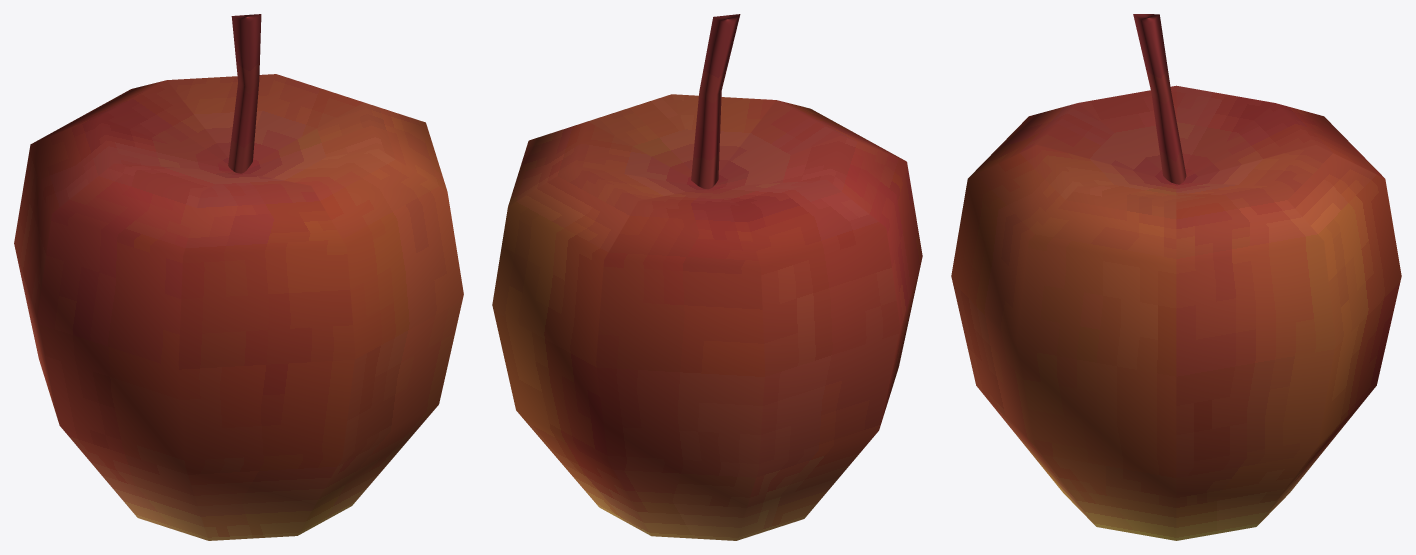
File: Obj_Fruit_Apple_A_01.glb
3 renders of one model, left to right at view 1: azimuth 30°, elevation 25°; view 2: azimuth 150°, elevation 25°; view 3: azimuth 270°, elevation 25°, orthographic. The views are drawn at different scales.
Visible parts, largest first — view 1: Obj_Fruit_Apple_A_01; view 2: Obj_Fruit_Apple_A_01; view 3: Obj_Fruit_Apple_A_01.
Boxes of the visible parts, box(x1,y1,x2,y2) form: Obj_Fruit_Apple_A_01: box(14, 14, 463, 540); Obj_Fruit_Apple_A_01: box(492, 14, 922, 540); Obj_Fruit_Apple_A_01: box(951, 14, 1401, 540).
Size of the model in its own units: 0.2653 by 0.3179 by 0.2654.
1 material, 1 textured.
